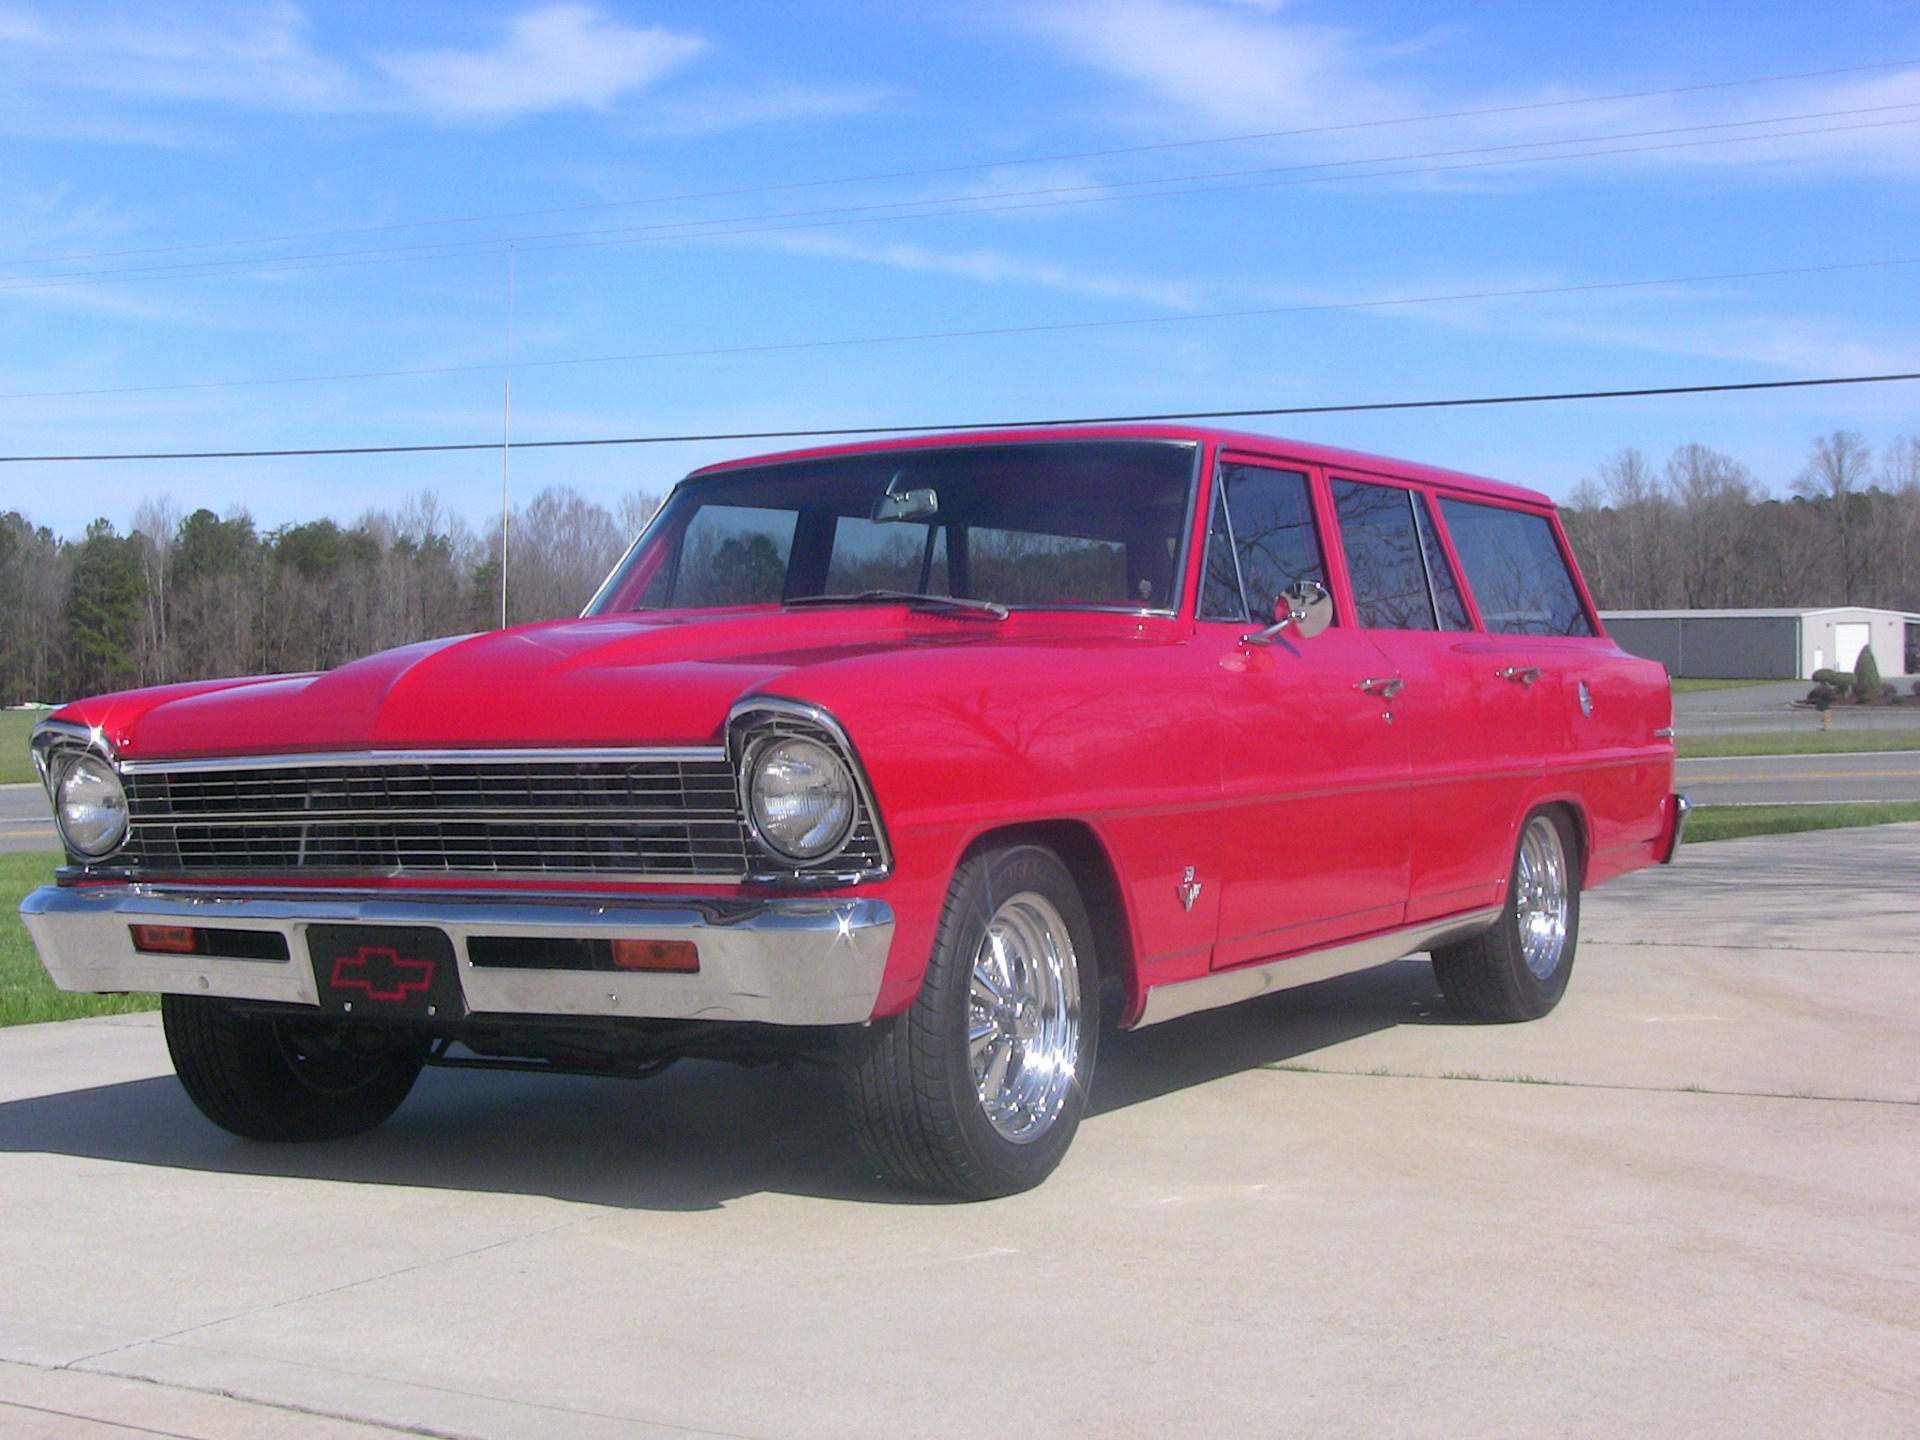car: (18, 421, 1686, 1203)
